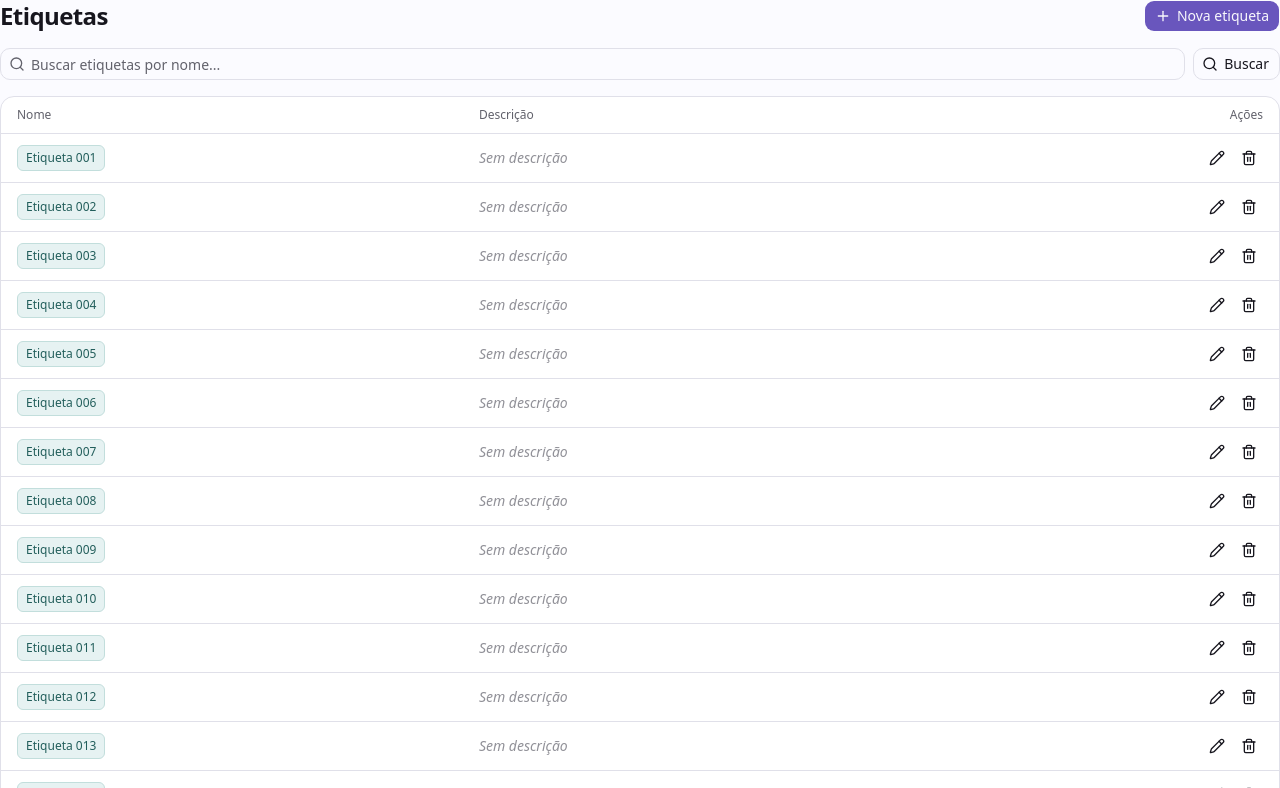
Scenario: TagListPage › paging › goes back to the first page when the size changes, keeping the search
The width and height of the screenshot is (1280, 788).
Expected: the text "Etiqueta 001" is shown, [17,145,106,171]
Type "etiqueta" into the field labelled "Buscar etiquetas por nome" at {"x": 605, "y": 64}, box [25,48,1184,80]
Then press Enter
(page scrolled)
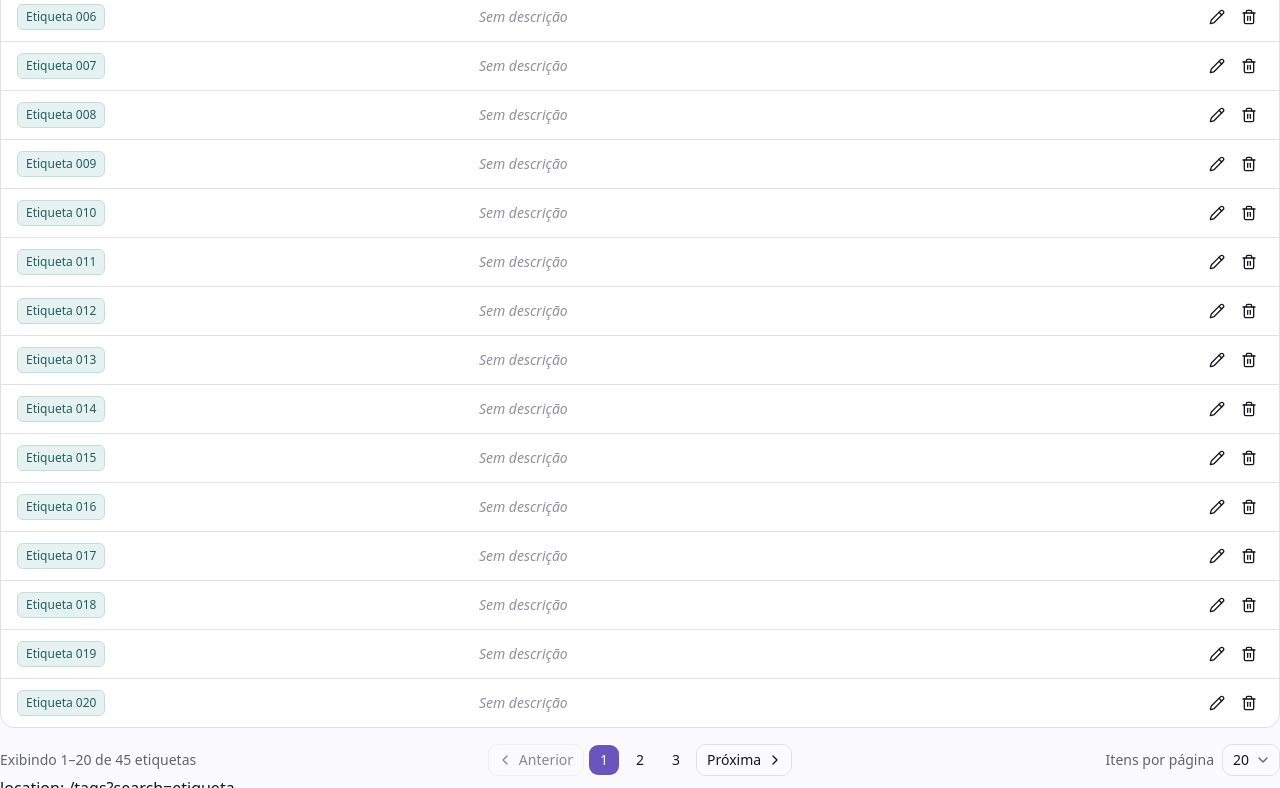
Click the button named "Ir para a página 3" at {"x": 676, "y": 760}, box [660,744,692,776]
(page scrolled)
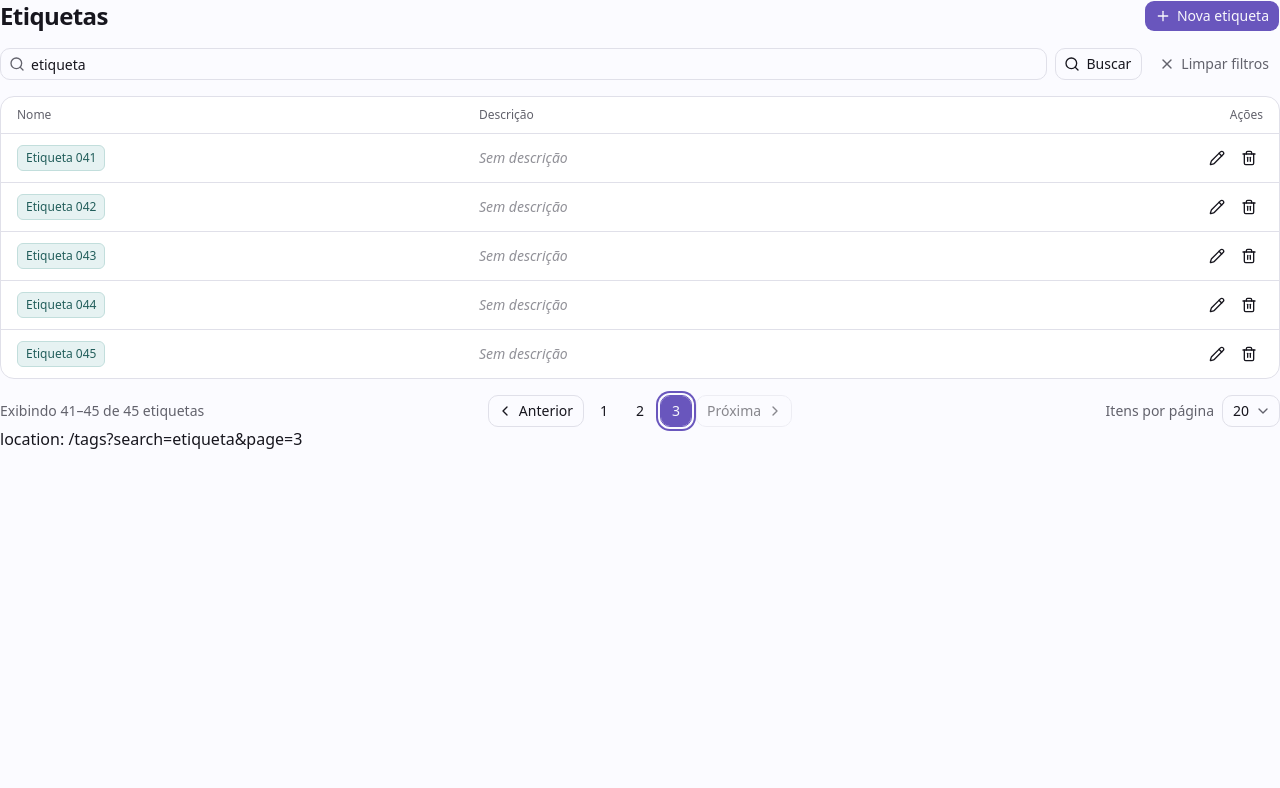
Now the text "Etiqueta 041" is shown, box [17,145,106,171]
Click the dropdown named "Itens por página" at {"x": 1251, "y": 411}, box [1222,395,1279,427]
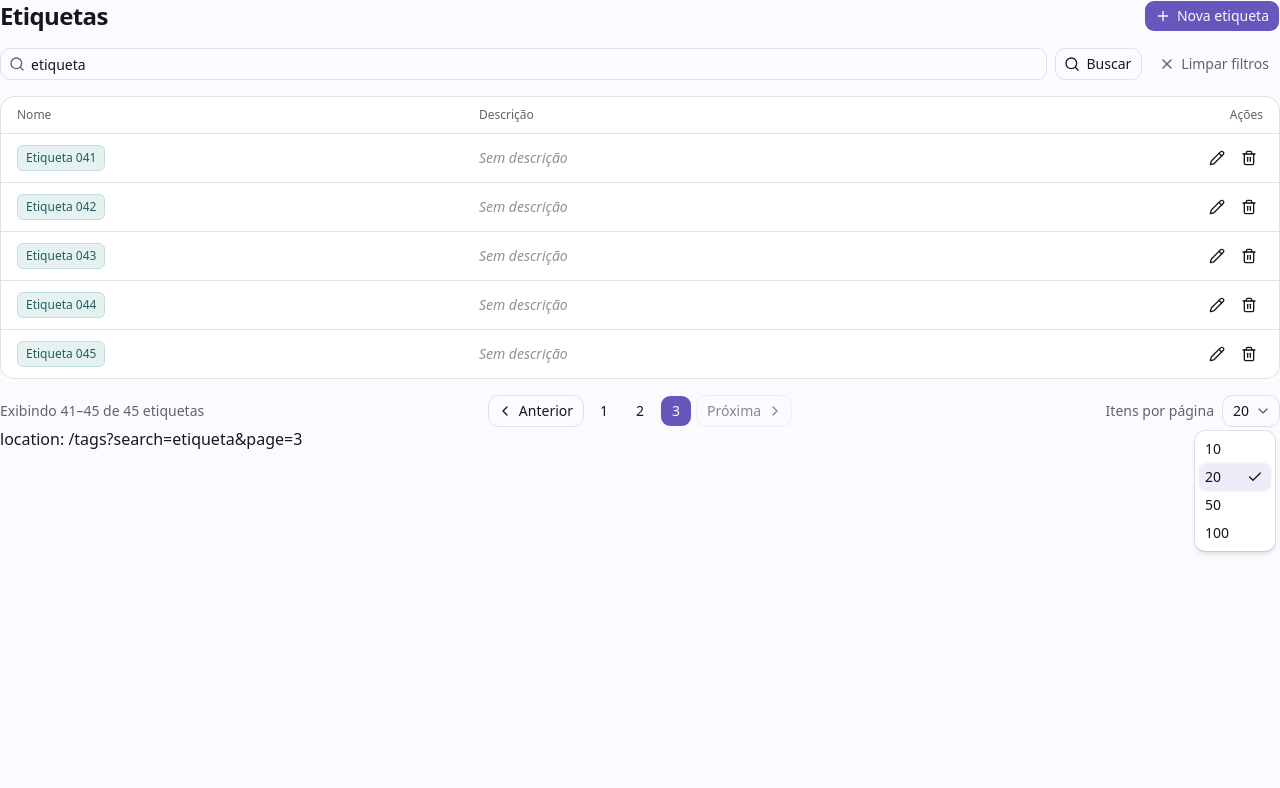
Click the option "50" at {"x": 1213, "y": 504}, box [1205,495,1221,514]
(page scrolled)
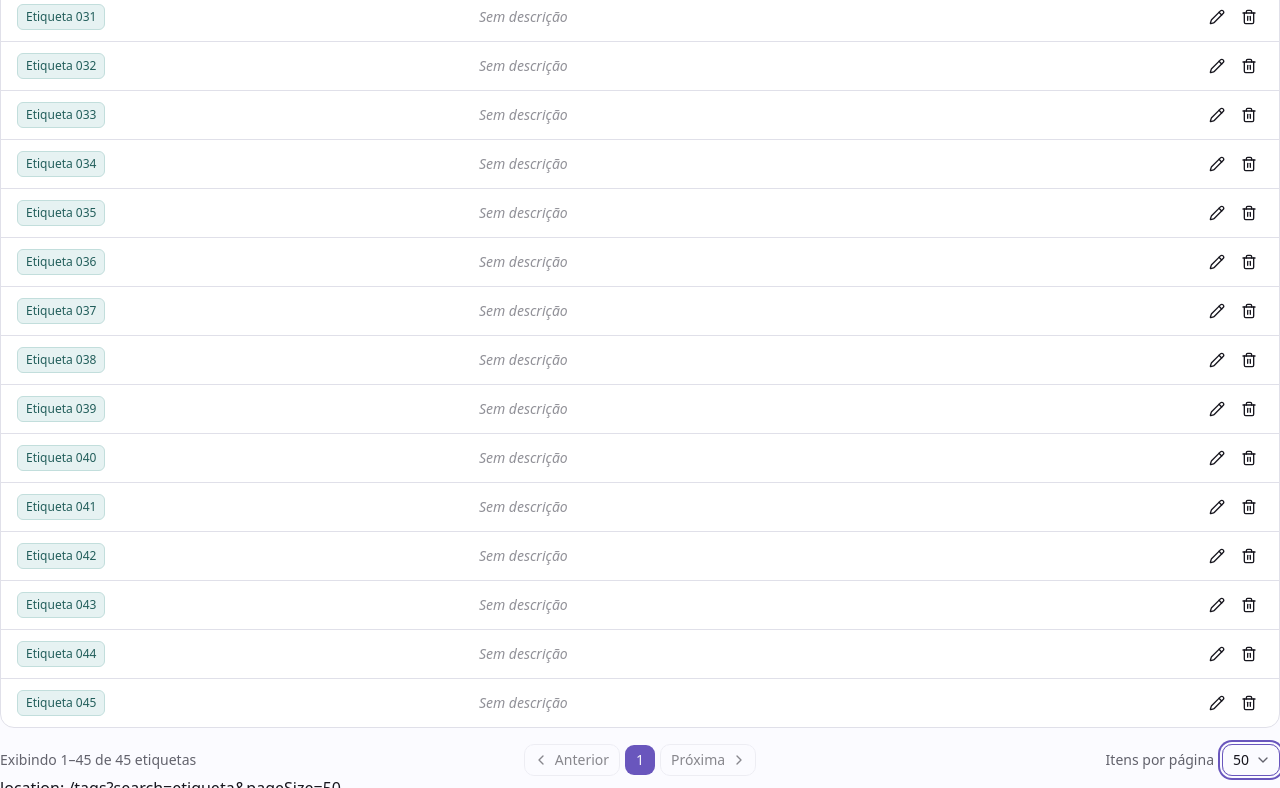
Now the text "Etiqueta 045" is shown, box [17,690,106,716]
Now the message reads "Exibindo 1–45 de 45 etiquetas", box [0,750,196,769]
